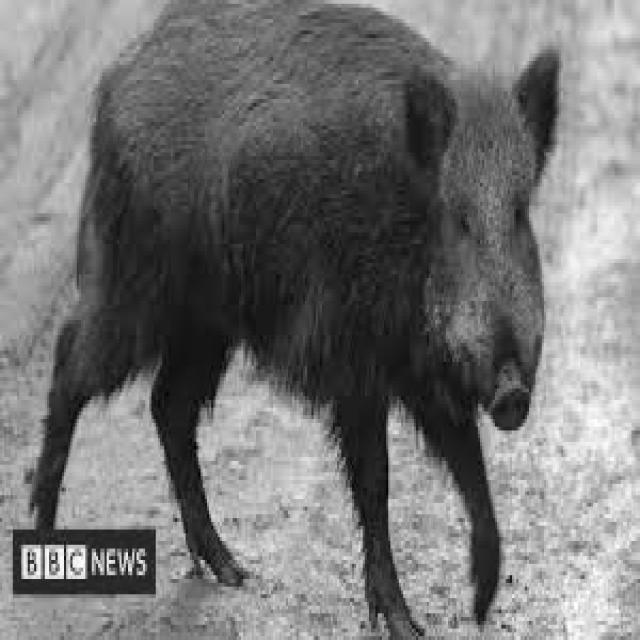boar: (34, 4, 561, 638)
